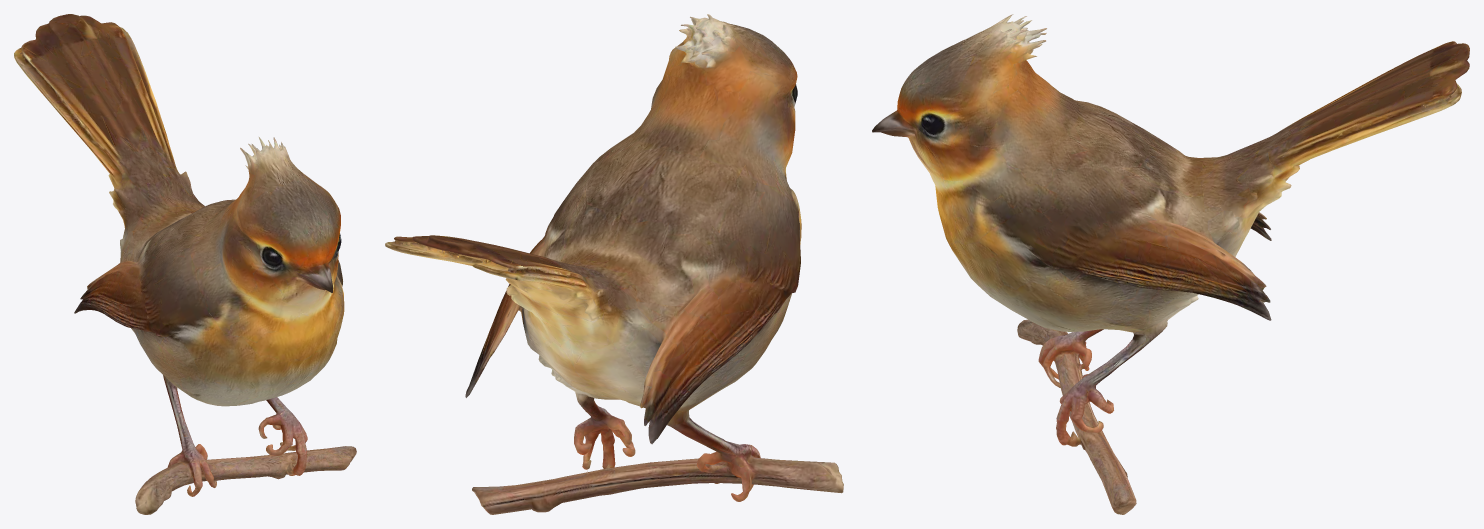
File: bird-winterkoning.glb
3 views of the same model, side by side, from view 1: azimuth 30°, elevation 25°; view 2: azimuth 150°, elevation 25°; view 3: azimuth 270°, elevation 25° (orthographic). The views are drawn at different scales.
Bounding box in the file's own units: 1.04 × 1.52 × 1.91.
Materials: 1 (1 with a texture image).
